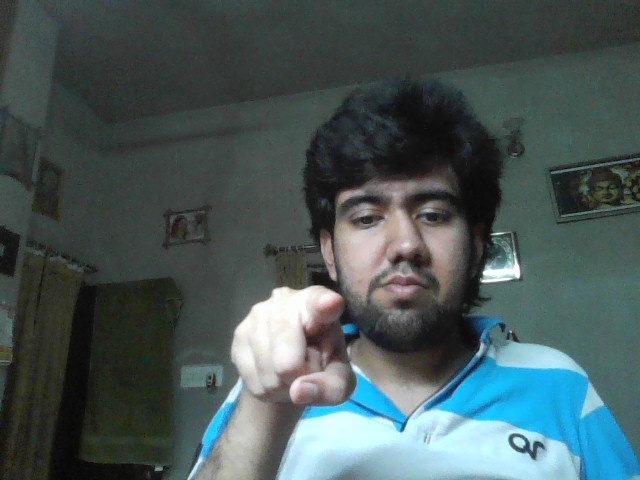You: (232, 284, 357, 411)
